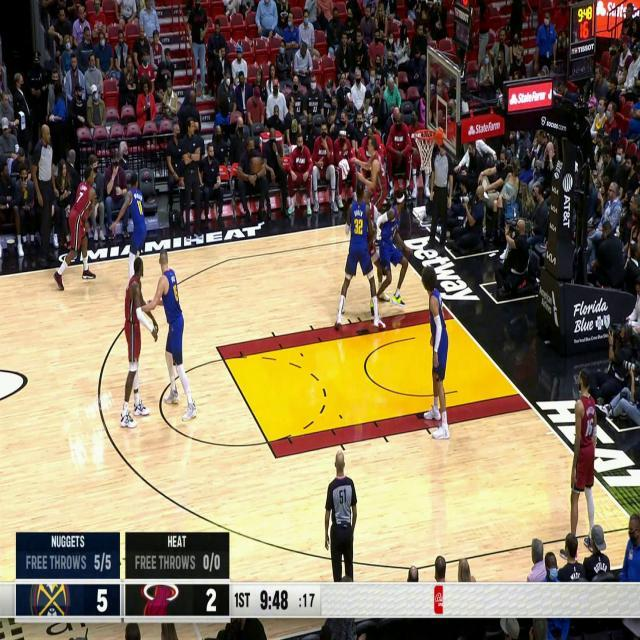rim: (250, 154, 262, 172)
